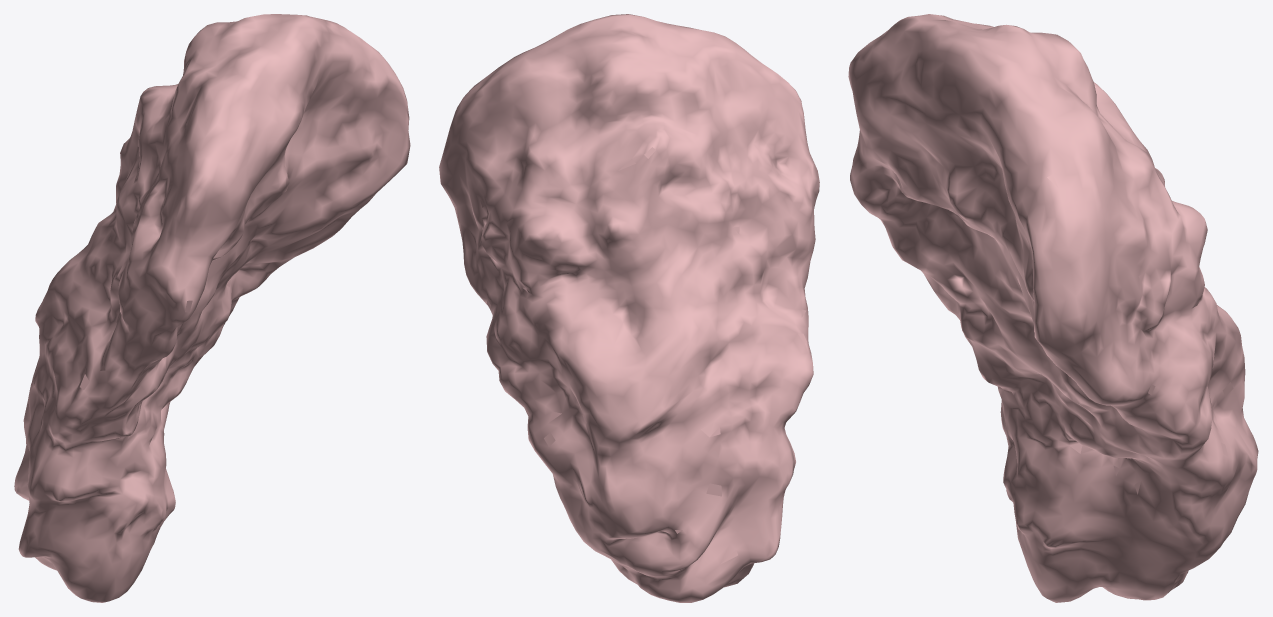
The model's file is 3d-vh-m-palatine-tonsil-r-80.glb.
3 renders of one model, left to right at view 1: azimuth 30°, elevation 25°; view 2: azimuth 150°, elevation 25°; view 3: azimuth 270°, elevation 25°, orthographic. The views are drawn at different scales.
Parts seen in each view (by area): view 1: VH_M_palatine_tonsil_R; view 2: VH_M_palatine_tonsil_R; view 3: VH_M_palatine_tonsil_R.
Boxes of the visible parts, x1=… form: VH_M_palatine_tonsil_R: x1=14, y1=14, x2=410, y2=602; VH_M_palatine_tonsil_R: x1=439, y1=14, x2=819, y2=602; VH_M_palatine_tonsil_R: x1=848, y1=14, x2=1258, y2=602.
Bounding box in the file's own units: 0.0168 × 0.0239 × 0.0139.
